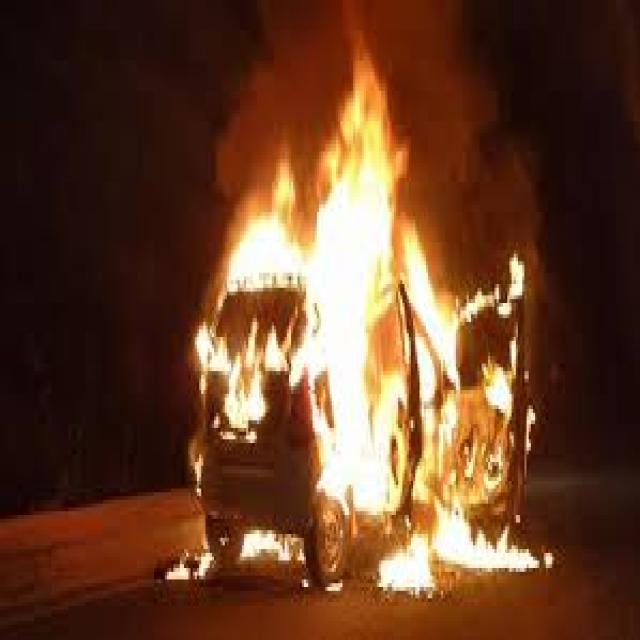Fire: (208, 118, 441, 540), (444, 286, 546, 604)
